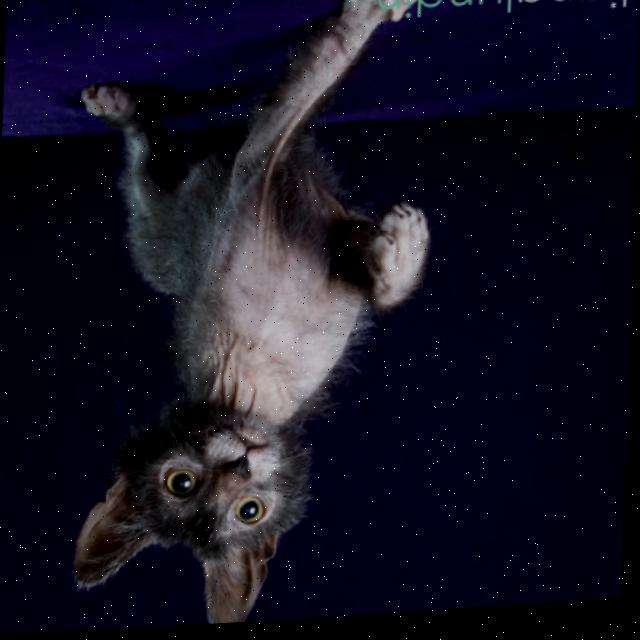Lykoi: (53, 0, 450, 637)
